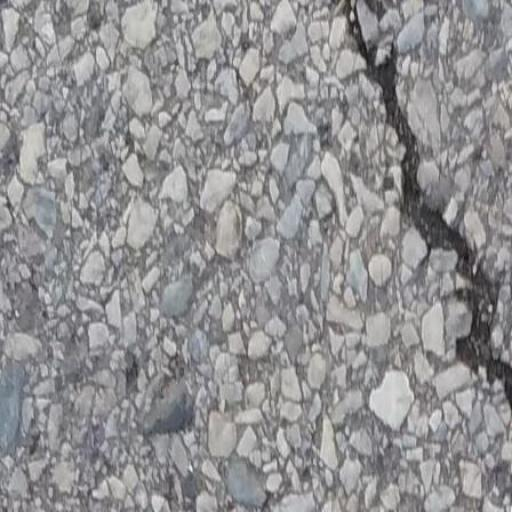spalling: (338, 3, 512, 424)
